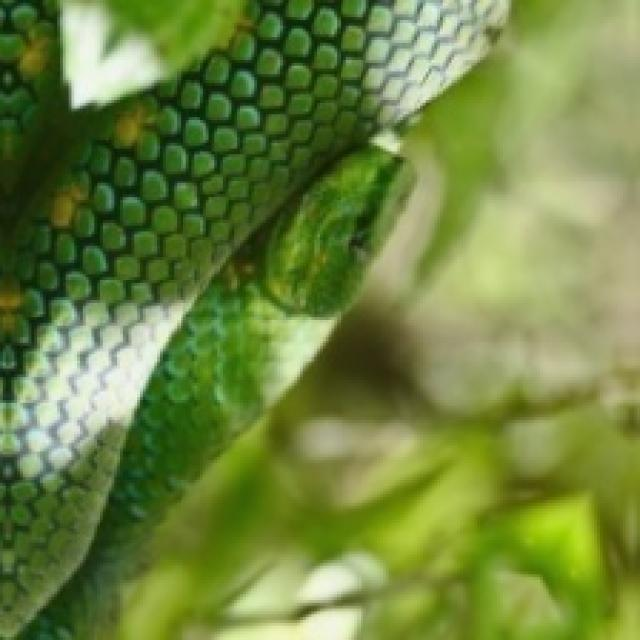philippine pitviper: (0, 0, 508, 639)
